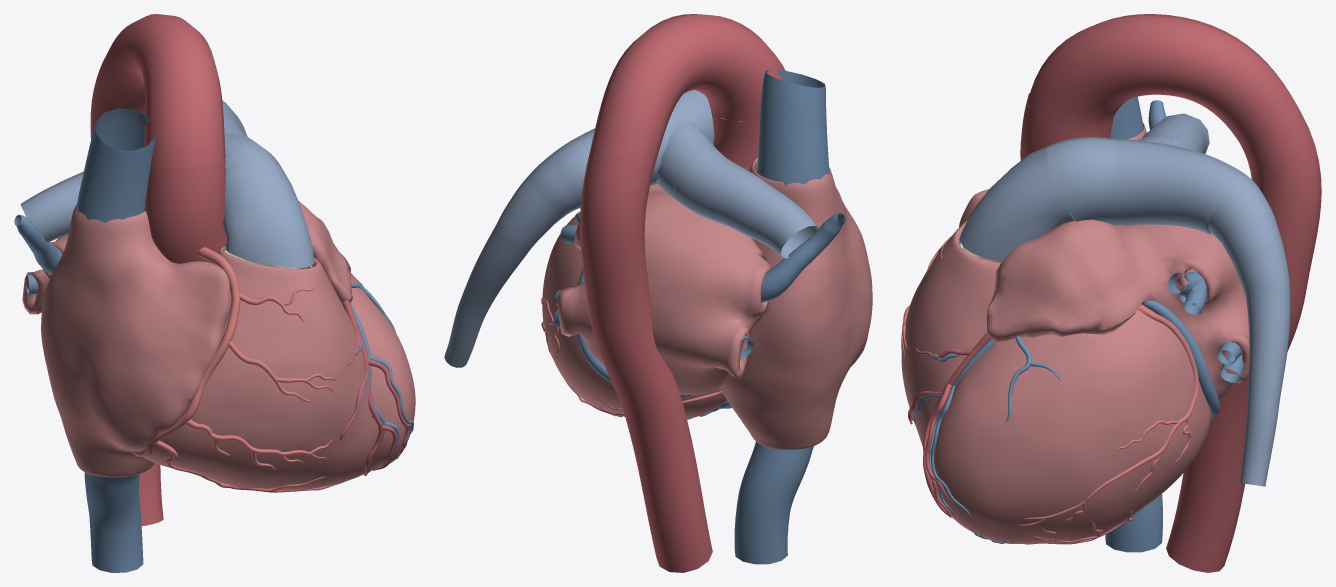
Rendered from heart.glb.
The picture shows the model from 3 angles, left to right: view 1: azimuth 30°, elevation 25°; view 2: azimuth 150°, elevation 25°; view 3: azimuth 270°, elevation 25°; orthographic projection. The views are drawn at different scales.
Parts seen in each view (by area): view 1: Right atrium, Right ventricle, Aortic arch, Pulmonary trunk, Ascending aorta, Superior vena cava, Right coronary artery, Inferior vena cava (thoracic part), Left ventricle, Left atrium, Right pulmonary artery, Anterior interventricular artery (+4 smaller); view 2: Thoracic aorta, Right atrium, Left atrium, Aortic arch, Left pulmonary artery, Right pulmonary artery, Superior vena cava, Inferior vena cava (thoracic part), Left ventricle, Bifurcation of pulmonary trunk, Right superior pulmonary vein, Ascending aorta; view 3: Left ventricle, Left atrium, Aortic arch, Thoracic aorta, Left pulmonary artery, Right ventricle, Bifurcation of pulmonary trunk, Pulmonary trunk, Great cardiac vein, Circumflex artery of heart, Inferior vena cava (thoracic part), Anterior interventricular artery (+5 smaller).
Part boxes in pixels (box(x1,y1,x2,y2)): Right atrium: box(41, 204, 230, 477); Right ventricle: box(137, 247, 375, 490); Aortic arch: box(97, 14, 225, 167); Pulmonary trunk: box(222, 162, 314, 268); Ascending aorta: box(144, 159, 226, 263); Superior vena cava: box(77, 108, 154, 222); Right coronary artery: box(133, 247, 348, 492); Inferior vena cava (thoracic part): box(84, 472, 143, 572); Left ventricle: box(351, 273, 415, 471); Left atrium: box(22, 201, 352, 314); Right pulmonary artery: box(20, 171, 83, 242); Anterior interventricular artery: box(340, 300, 411, 475); Thoracic aorta: box(580, 149, 712, 572); Right atrium: box(720, 158, 872, 449); Left atrium: box(557, 184, 770, 395); Aortic arch: box(590, 14, 785, 164); Left pulmonary artery: box(444, 128, 595, 367); Right pulmonary artery: box(674, 149, 819, 258); Superior vena cava: box(756, 69, 829, 186); Inferior vena cava (thoracic part): box(734, 441, 813, 564); Left ventricle: box(542, 216, 727, 418); Bifurcation of pulmonary trunk: box(650, 90, 726, 201); Right superior pulmonary vein: box(761, 213, 845, 302); Ascending aorta: box(711, 109, 759, 170); Left ventricle: box(932, 304, 1211, 543); Left atrium: box(987, 219, 1249, 400); Aortic arch: box(1027, 14, 1300, 146); Thoracic aorta: box(1166, 113, 1321, 572); Left pulmonary artery: box(1162, 148, 1290, 486); Right ventricle: box(901, 220, 1000, 446); Bifurcation of pulmonary trunk: box(1047, 136, 1182, 225); Pulmonary trunk: box(959, 145, 1074, 260); Great cardiac vein: box(913, 300, 1213, 519); Circumflex artery of heart: box(1014, 305, 1198, 525); Inferior vena cava (thoracic part): box(1105, 494, 1162, 552); Anterior interventricular artery: box(908, 332, 991, 517).
Size of the model in its own units: 0.135 by 0.1919 by 0.1307.
